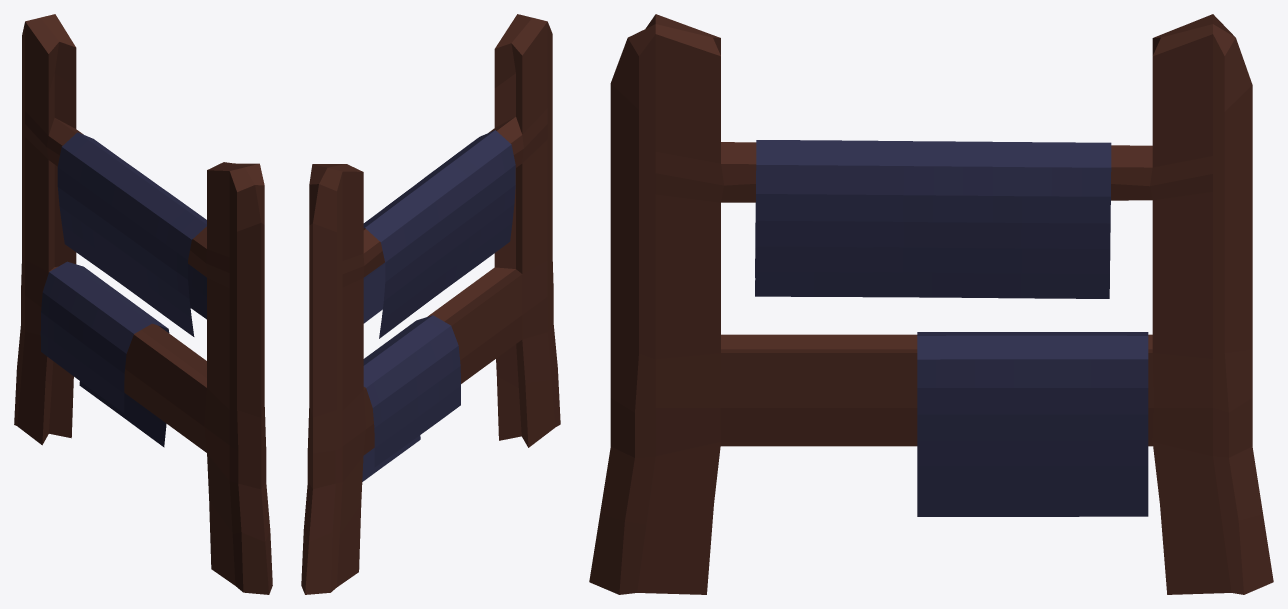
The model's file is minivaral.fbx.
3 views of the same model, side by side, from view 1: azimuth 30°, elevation 25°; view 2: azimuth 150°, elevation 25°; view 3: azimuth 270°, elevation 25° (orthographic). The views are drawn at different scales.
Parts seen in each view (by area): view 1: Cube, Plane, Plane.001; view 2: Cube, Plane, Plane.001; view 3: Cube, Plane, Plane.001.
Part boxes in pixels (x1,y1,x2,y2): Cube: (14, 14, 272, 594); Plane: (57, 132, 206, 336); Plane.001: (40, 261, 169, 447); Cube: (301, 14, 560, 594); Plane: (363, 130, 515, 338); Plane.001: (362, 315, 460, 481); Cube: (589, 14, 1273, 594); Plane: (755, 140, 1111, 298); Plane.001: (917, 332, 1148, 516).
Bounding box in the file's own units: 99.3 × 823 × 910.
2 materials, 2 textured.
